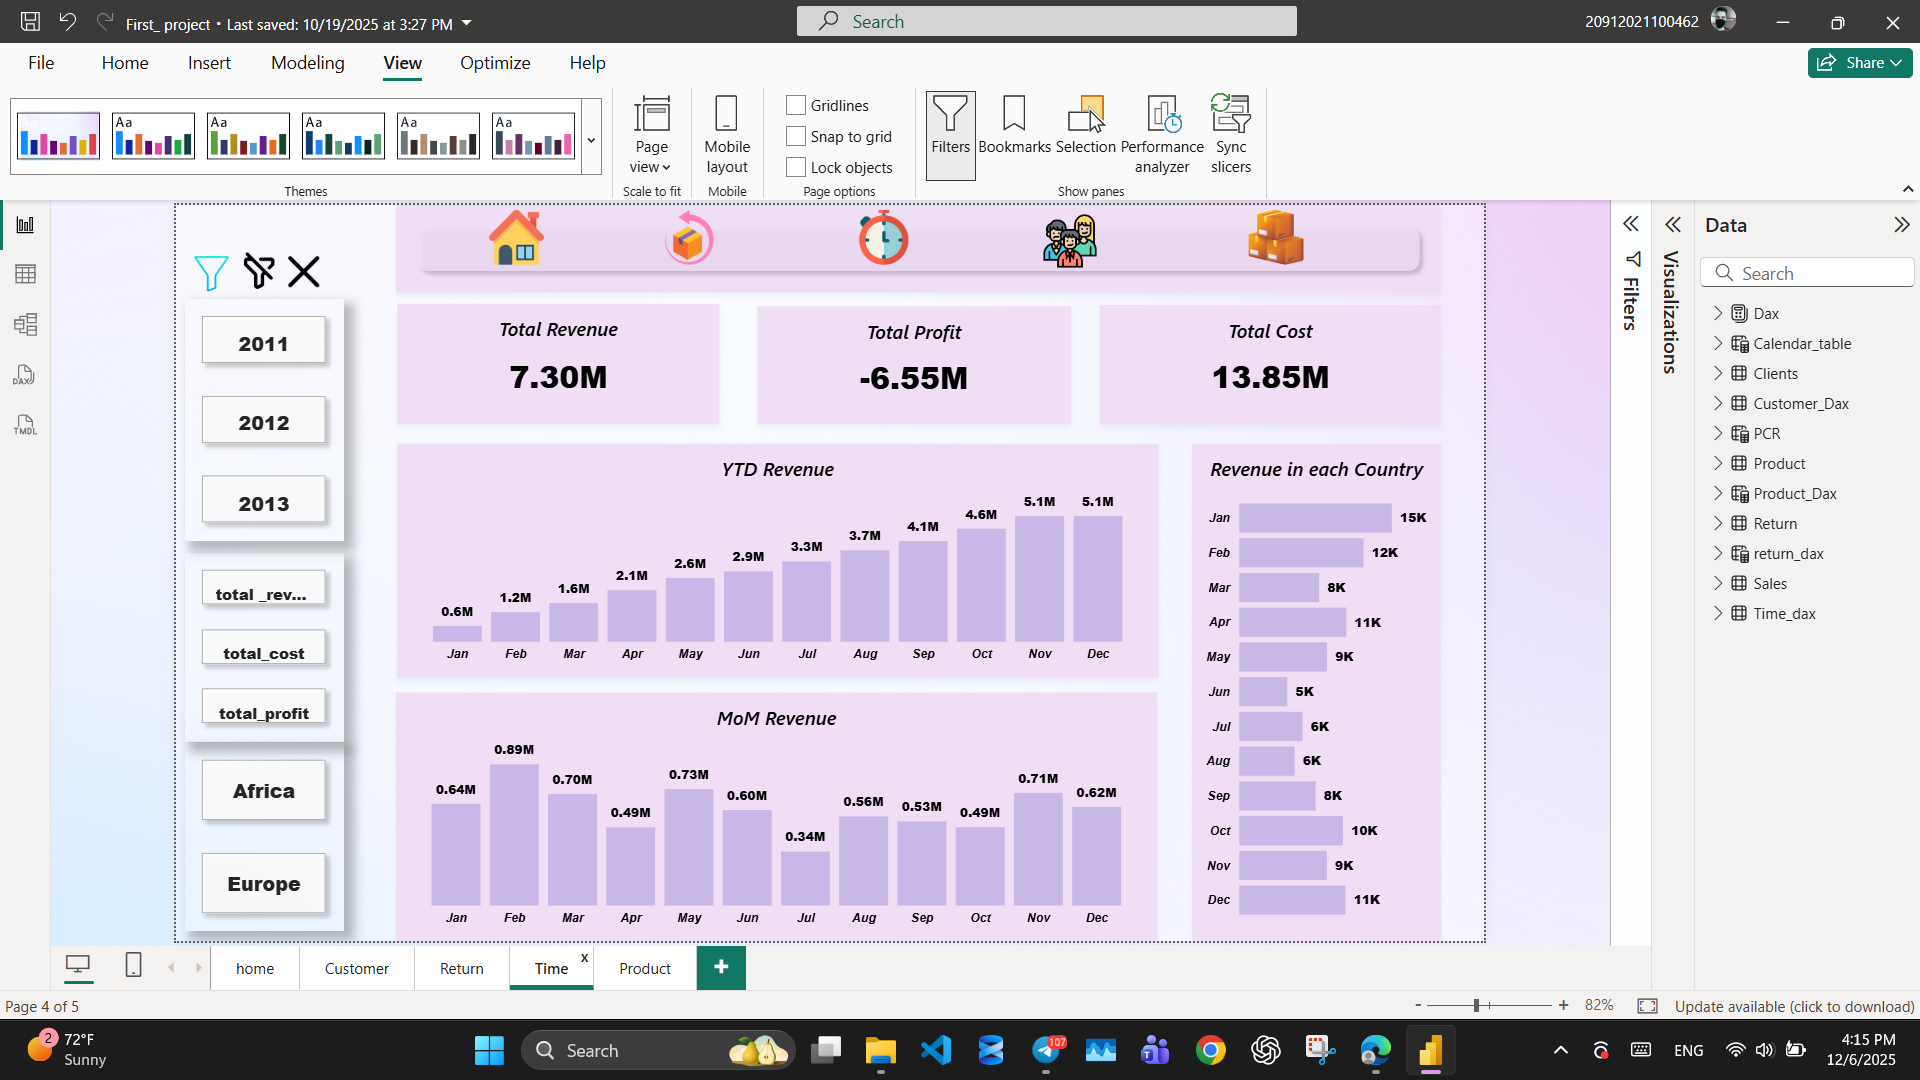

This screenshot's page, from the dashboard's own definition file:
{"tool":"powerbi","page":{"name":"Time","canvas":[1280,720],"ordinal":3},"visuals":[{"type":"advancedSlicerVisual","fields":{"Values":["Calendar_table.year"]},"box":[8.6,92.1,155.9,236.9],"z":0},{"type":"advancedSlicerVisual","fields":{"Values":["Clients.Continent"]},"box":[8.6,525.4,155.9,184.1],"z":1000},{"type":"shape","box":[215.2,0,1022.3,85.6],"z":2000},{"type":"image","box":[95.4,45.2,58.7,40.4],"z":3000},{"type":"image","box":[50.1,41.6,62.4,50.1],"z":4000},{"type":"image","box":[0,45.2,69.7,44],"z":5000},{"type":"image","box":[275.6,0,116.7,63.3],"z":6000},{"type":"image","box":[802.2,3.7,145.5,63.6],"z":7000},{"type":"image","box":[624.4,0,135.3,63.3],"z":8000},{"type":"image","box":[440.2,0,124.7,63.6],"z":9000},{"type":"image","box":[1015.4,0,122.9,63.3],"z":10000},{"type":"card","title":"Total Revenue","fields":{"Values":["Dax.total _revenue"]},"box":[216,97,315.5,117.8],"z":11000},{"type":"card","title":"Total Revenue","fields":{"Values":["Dax.Show_Variance_revenue"]},"box":[440.7,175.5,90.8,50.3],"z":12000},{"type":"card","title":"Total Revenue","fields":{"Values":["Dax.Arrow_revenue"]},"box":[214,165.1,63.6,63.6],"z":13000},{"type":"card","title":"Total Profit","fields":{"Values":["Dax.total_profit"]},"box":[568.3,99.4,306.9,115.4],"z":14000},{"type":"card","title":"Total Revenue","fields":{"Values":["Dax.Show_Variance_profit"]},"box":[779.4,173.1,90.8,50.3],"z":15000},{"type":"card","title":"Total Revenue","fields":{"Values":["Dax.Arrow_profit"]},"box":[568.3,166.9,62.6,63.8],"z":16000},{"type":"card","title":"Total Cost","fields":{"Values":["Dax.total_cost"]},"box":[903.4,98.2,333.9,116.6],"z":17000},{"type":"card","title":"Total Revenue","fields":{"Values":["Dax.Show_Variance_cost"]},"box":[1137.9,175.5,90.8,50.3],"z":18000},{"type":"card","title":"Total Revenue","fields":{"Values":["Dax.Arrow_cost"]},"box":[903.4,171.8,70,50.3],"z":19000},{"type":"clusteredColumnChart","fields":{"Y":["Time_dax.YTD"],"Category":["Calendar_table.month_name"]},"box":[216.4,233.6,744.7,228.7],"z":20000},{"type":"clusteredBarChart","title":"Revenue in each Country","fields":{"Category":["Calendar_table.month_name"],"Y":["Dax.total_qty"]},"box":[994.2,233.6,243.3,486.7],"z":21000},{"type":"advancedSlicerVisual","fields":{"Values":["PCR.PCR"]},"box":[8.6,340,155.9,185.3],"z":22000},{"type":"clusteredColumnChart","fields":{"Category":["Calendar_table.month_name"],"Y":["Time_dax.Month over Month"]},"box":[215.2,476.9,744.7,243.3],"z":23000}]}

Visuals, with their boxes on the page's 1280x720 design canvas (x1, y1, x2, y2). These are canvas units, not pixel positions in the 1920x1080 screenshot, which may show the page scaled, cropped or inside an application window:
advancedSlicerVisual - Calendar_table.year: locate(9, 92, 164, 329)
advancedSlicerVisual - Clients.Continent: locate(9, 525, 164, 710)
shape: locate(215, 0, 1238, 86)
image: locate(95, 45, 154, 86)
image: locate(50, 42, 112, 92)
image: locate(0, 45, 70, 89)
image: locate(276, 0, 392, 63)
image: locate(802, 4, 948, 67)
image: locate(624, 0, 760, 63)
image: locate(440, 0, 565, 64)
image: locate(1015, 0, 1138, 63)
"Total Revenue" card: locate(216, 97, 532, 215)
"Total Revenue" card: locate(441, 176, 532, 226)
"Total Revenue" card: locate(214, 165, 278, 229)
"Total Profit" card: locate(568, 99, 875, 215)
"Total Revenue" card: locate(779, 173, 870, 223)
"Total Revenue" card: locate(568, 167, 631, 231)
"Total Cost" card: locate(903, 98, 1237, 215)
"Total Revenue" card: locate(1138, 176, 1229, 226)
"Total Revenue" card: locate(903, 172, 973, 222)
clusteredColumnChart - Time_dax.YTD x Calendar_table.month_name: locate(216, 234, 961, 462)
"Revenue in each Country" clusteredBarChart: locate(994, 234, 1238, 720)
advancedSlicerVisual - PCR.PCR: locate(9, 340, 164, 525)
clusteredColumnChart - Calendar_table.month_name x Time_dax.Month over Month: locate(215, 477, 960, 720)
